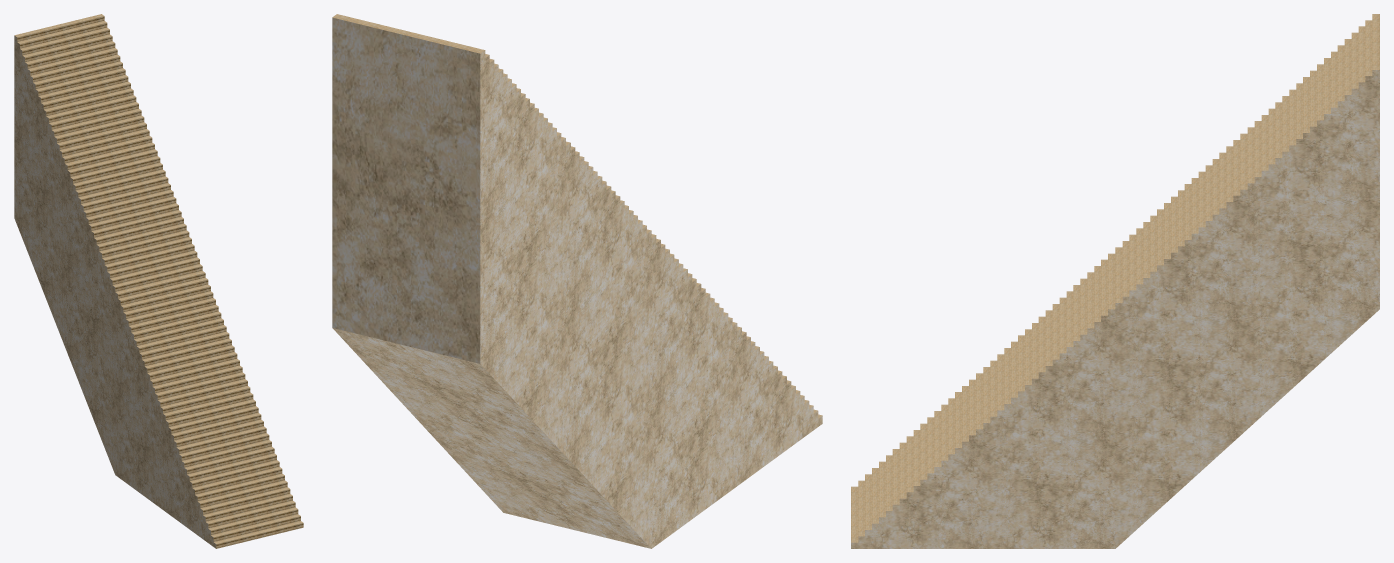
Rendered from thm_tato_imprv_stair_large_s02_l0.fbx.
3 views of the same model, side by side, from view 1: azimuth 30°, elevation 25°; view 2: azimuth 150°, elevation 25°; view 3: azimuth 270°, elevation 25° (orthographic). The views are drawn at different scales.
Visible parts, largest first — view 1: mesh_node; view 2: mesh_node; view 3: mesh_node.
Boxes of the visible parts, box(x1,y1,x2,y2) form: mesh_node: box(14, 14, 303, 548); mesh_node: box(332, 14, 822, 548); mesh_node: box(851, 14, 1379, 548).
Bounding box in the file's own units: 4 × 16 × 16.
